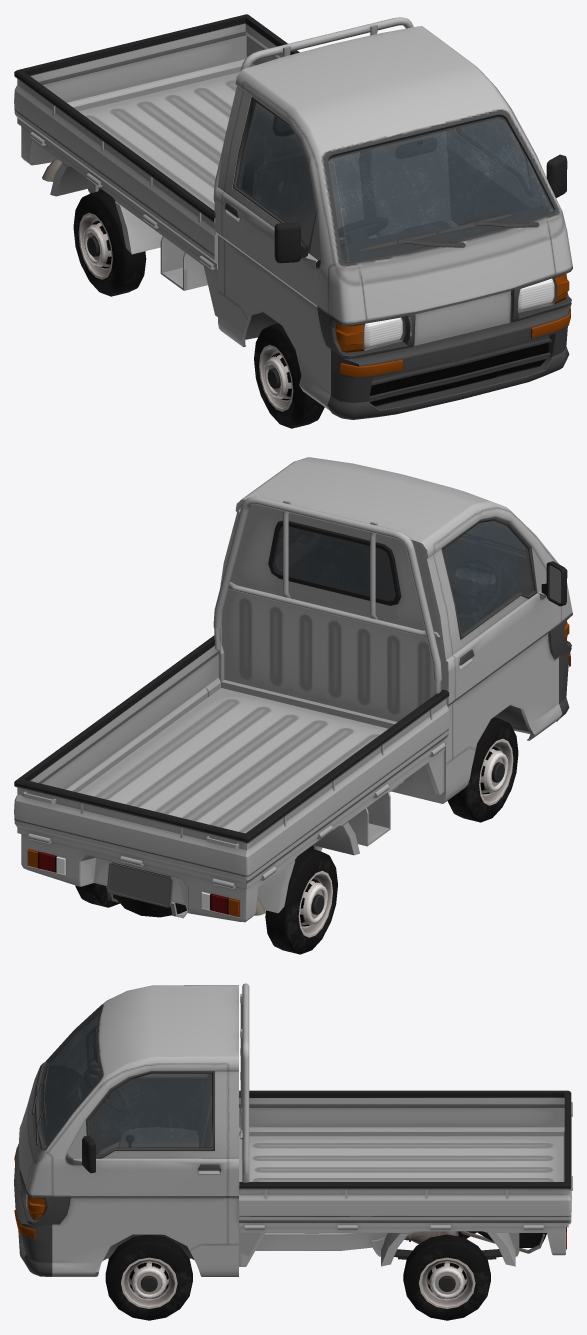
The model's file is mini_truck.glb.
The picture shows the model from 3 angles, top to bottom: view 1: azimuth 30°, elevation 25°; view 2: azimuth 150°, elevation 25°; view 3: azimuth 270°, elevation 25°; orthographic projection. The views are drawn at different scales.
Parts seen in each view (by area): view 1: defaultMaterial (×3); view 2: defaultMaterial (×3); view 3: defaultMaterial (×3).
Boxes of the visible parts, x1,y1,x2,y2 form: defaultMaterial (×3): [14, 14, 572, 428]; defaultMaterial (×3): [14, 457, 572, 954]; defaultMaterial (×3): [14, 983, 572, 1320].
Size of the model in its own units: 1.68 by 1.78 by 3.39.
Materials: 3 (3 with a texture image).
